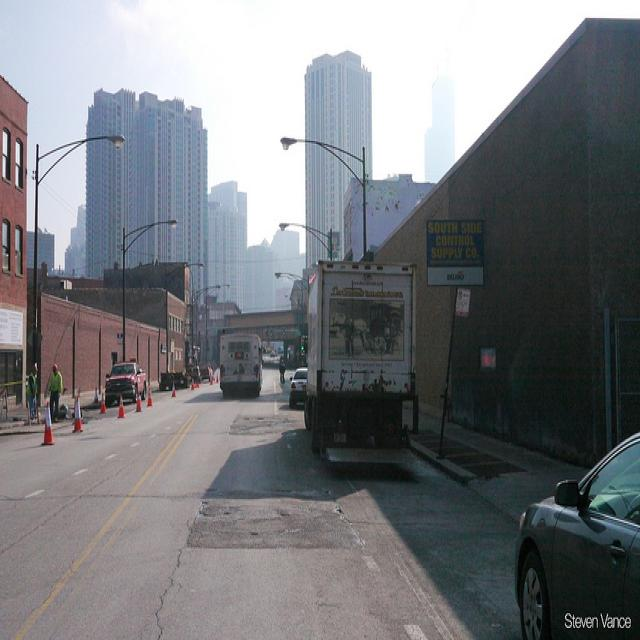Vehicle: (299, 253, 425, 466), (513, 431, 639, 633), (220, 335, 263, 389), (104, 360, 149, 408), (288, 367, 309, 409), (199, 362, 213, 382)
